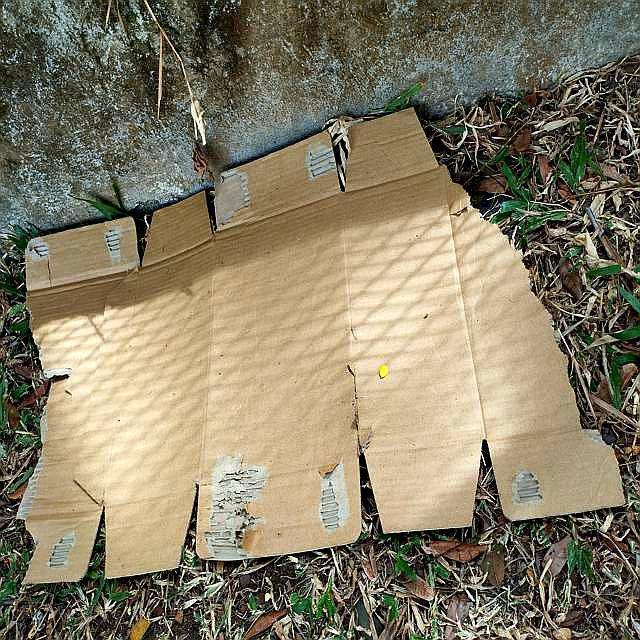Biodegradable: (16, 84, 632, 596)
